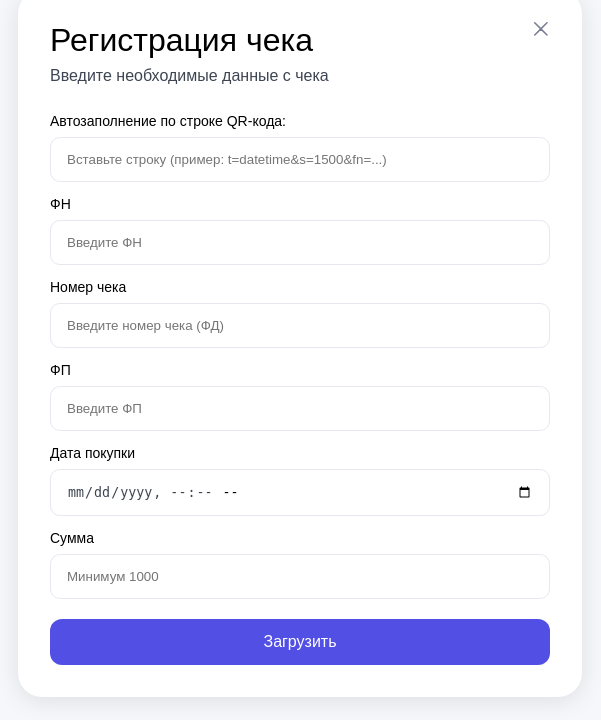
Test: Компонент формы ReceiptForm › Автозаполнение должно работать при вставке корректной строки QR-кода
Имитируем вставку строки пользователем
In the field with placeholder "Вставьте строку (пример: t=datetime&s=1500&fn=...)": (300, 160) [50,137,550,182], type "t=20260930T145500&s=1850.20&fn=9999456789123456&i=7788&fp=33445566"
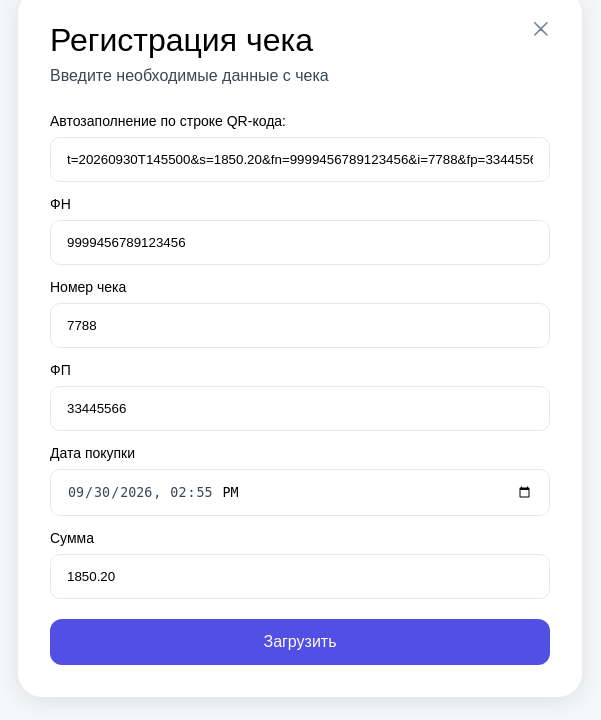
Result: the field with placeholder "Введите ФН" below "ФН" holds "9999456789123456" at [50,220,550,265]
Result: the field with placeholder "Введите номер чека (ФД)" below "Номер чека" holds "7788" at [50,303,550,348]
Result: the field with placeholder "Введите ФП" below "ФП" holds "33445566" at [50,386,550,431]
